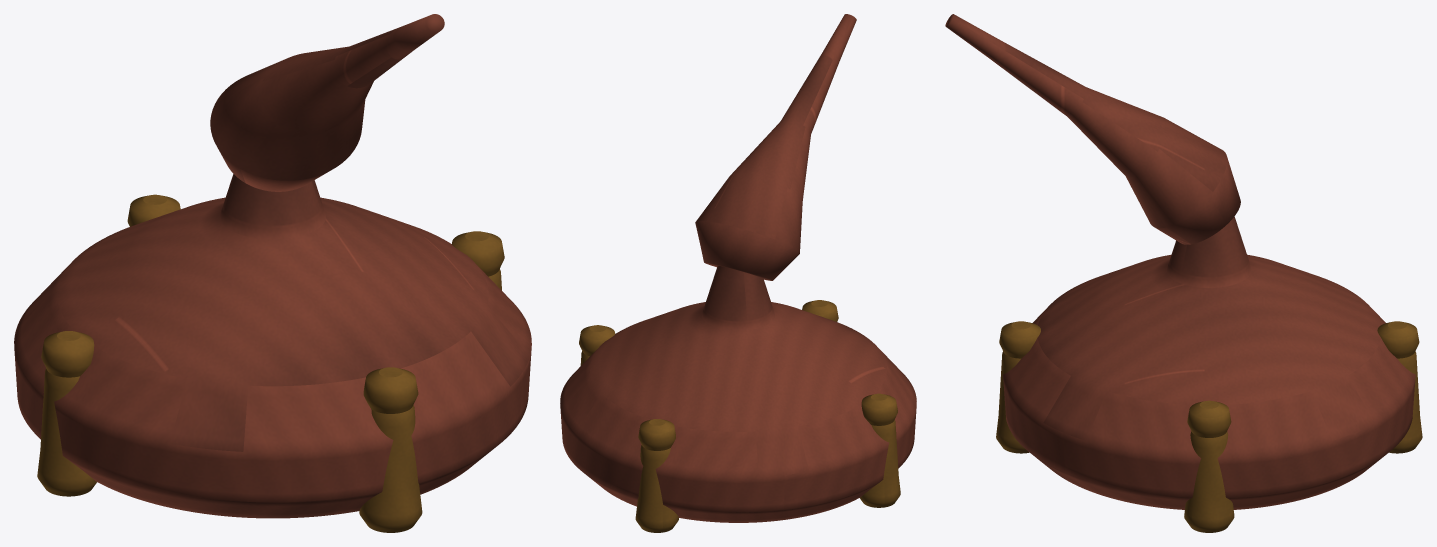
3 views of the same model, side by side, from view 1: azimuth 30°, elevation 25°; view 2: azimuth 150°, elevation 25°; view 3: azimuth 270°, elevation 25° (orthographic). The views are drawn at different scales.
Parts seen in each view (by area): view 1: BR18 rose domed pedestal and narrow neck, BR18 single tapered rose emitter, BR18 gold radial foot 0, BR18 gold radial foot 3, BR18 foot upper cap 0, BR18 foot upper cap 3, BR18 foot upper cap 1, BR18 foot upper cap 2; view 2: BR18 rose domed pedestal and narrow neck, BR18 single tapered rose emitter, BR18 gold radial foot 2, BR18 gold radial foot 3, BR18 foot upper cap 2, BR18 foot upper cap 3, BR18 foot upper cap 1, BR18 foot upper cap 0; view 3: BR18 rose domed pedestal and narrow neck, BR18 single tapered rose emitter, BR18 gold radial foot 1, BR18 foot upper cap 1, BR18 foot upper cap 2, BR18 foot upper cap 0, BR18 gold radial foot 0, BR18 gold radial foot 2.
Boxes of the visible parts, x1,y1,x2,y2 form: BR18 rose domed pedestal and narrow neck: [14, 174, 531, 518]; BR18 single tapered rose emitter: [210, 14, 444, 191]; BR18 gold radial foot 0: [359, 405, 422, 532]; BR18 gold radial foot 3: [37, 368, 96, 496]; BR18 foot upper cap 0: [363, 367, 418, 413]; BR18 foot upper cap 3: [41, 331, 94, 377]; BR18 foot upper cap 1: [452, 231, 504, 276]; BR18 foot upper cap 2: [127, 194, 180, 226]; BR18 rose domed pedestal and narrow neck: [560, 266, 916, 522]; BR18 single tapered rose emitter: [695, 14, 856, 280]; BR18 gold radial foot 2: [635, 445, 678, 532]; BR18 gold radial foot 3: [860, 420, 900, 507]; BR18 foot upper cap 2: [638, 419, 675, 450]; BR18 foot upper cap 3: [861, 393, 897, 425]; BR18 foot upper cap 1: [579, 325, 615, 356]; BR18 foot upper cap 0: [802, 300, 838, 321]; BR18 rose domed pedestal and narrow neck: [1003, 216, 1415, 509]; BR18 single tapered rose emitter: [945, 14, 1240, 244]; BR18 gold radial foot 1: [1184, 431, 1234, 532]; BR18 foot upper cap 1: [1187, 400, 1231, 437]; BR18 foot upper cap 2: [1377, 321, 1419, 358]; BR18 foot upper cap 0: [999, 321, 1040, 358]; BR18 gold radial foot 0: [996, 351, 1029, 453]; BR18 gold radial foot 2: [1389, 351, 1422, 453].
Size of the model in its own units: 1.61 by 1.79 by 1.8.
Materials: 2 (2 with a texture image).
